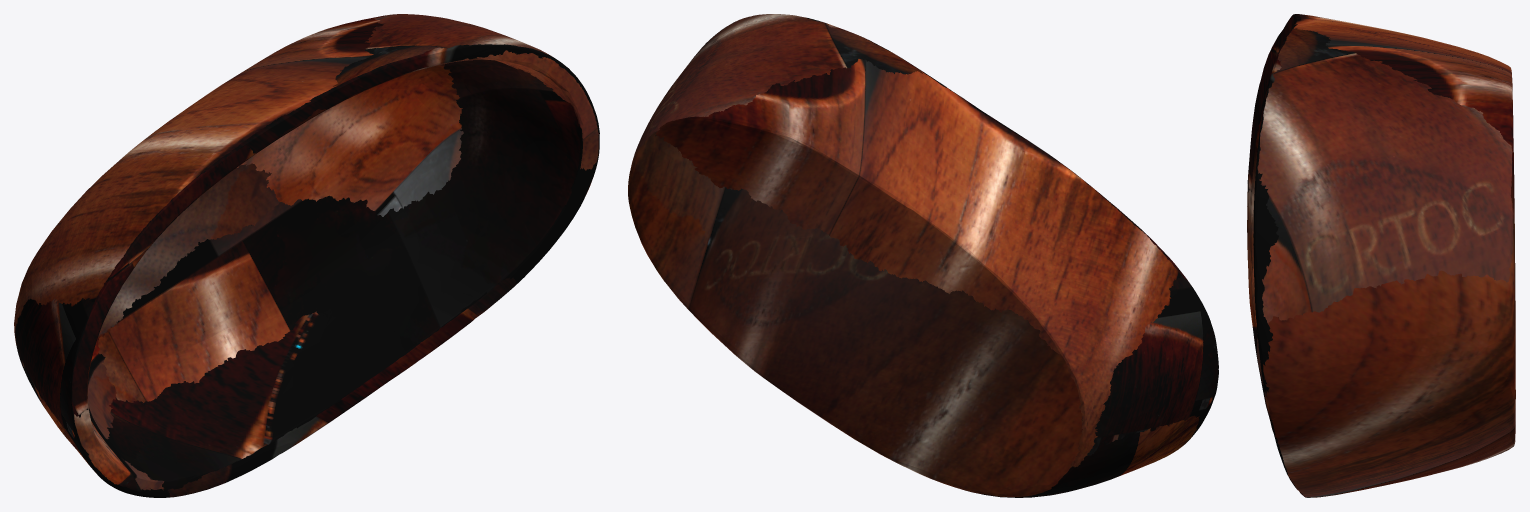
The picture shows the model from 3 angles, left to right: view 1: azimuth 30°, elevation 25°; view 2: azimuth 150°, elevation 25°; view 3: azimuth 270°, elevation 25°; orthographic projection. The views are drawn at different scales.
Parts seen in each view (by area): view 1: 20200831_003_wan1; view 2: 20200831_003_wan1; view 3: 20200831_003_wan1.
Part boxes in pixels (x1,y1,x2,y2): 20200831_003_wan1: [14, 14, 599, 497]; 20200831_003_wan1: [628, 14, 1218, 497]; 20200831_003_wan1: [1247, 14, 1515, 497].
Size of the model in its own units: 143 by 98.61 by 45.54.
